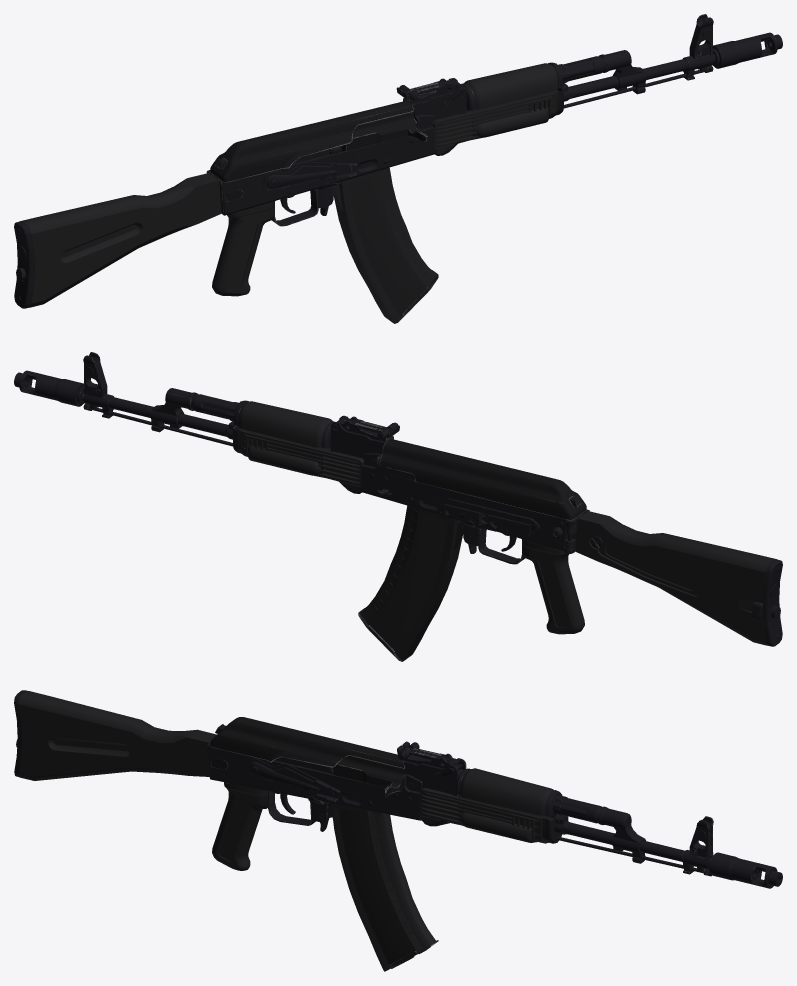
3 renders of one model, top to bottom at view 1: azimuth 30°, elevation 25°; view 2: azimuth 150°, elevation 25°; view 3: azimuth 330°, elevation 25°, orthographic.
Parts seen in each view (by area): view 1: Object_3, Object_2; view 2: Object_3, Object_2; view 3: Object_3, Object_2.
Part boxes in pixels (<box>): Object_3: <box>19,63,559,323</box>; Object_2: <box>14,14,782,308</box>; Object_3: <box>237,401,777,661</box>; Object_2: <box>14,352,782,646</box>; Object_3: <box>18,691,557,971</box>; Object_2: <box>14,690,782,888</box>.
Size of the model in its own units: 0.9355 by 0.2668 by 0.0694.
Materials: 2 (2 with a texture image).
